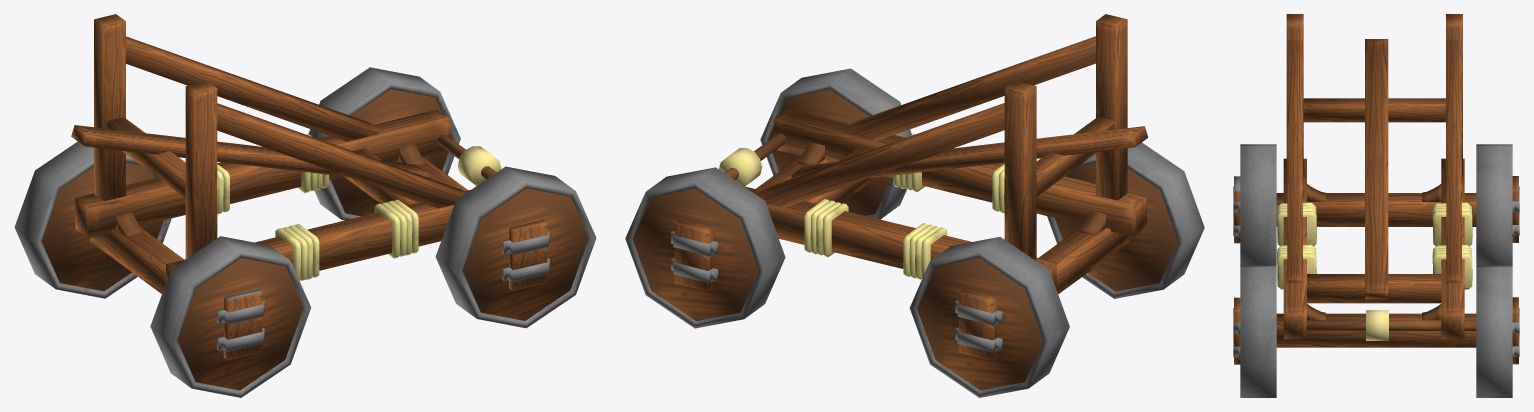
The model's file is CrossbowcatapultLP1.fbx.
3 views of the same model, side by side, from view 1: azimuth 30°, elevation 25°; view 2: azimuth 150°, elevation 25°; view 3: azimuth 270°, elevation 25° (orthographic). The views are drawn at different scales.
Visible parts, largest first — view 1: crossbow catapult.005; view 2: crossbow catapult.005; view 3: crossbow catapult.005.
Boxes of the visible parts, x1=… form: crossbow catapult.005: x1=14, y1=14, x2=596, y2=397; crossbow catapult.005: x1=625, y1=14, x2=1204, y2=397; crossbow catapult.005: x1=1233, y1=14, x2=1519, y2=397.
Size of the model in its own units: 474 by 298 by 307.
